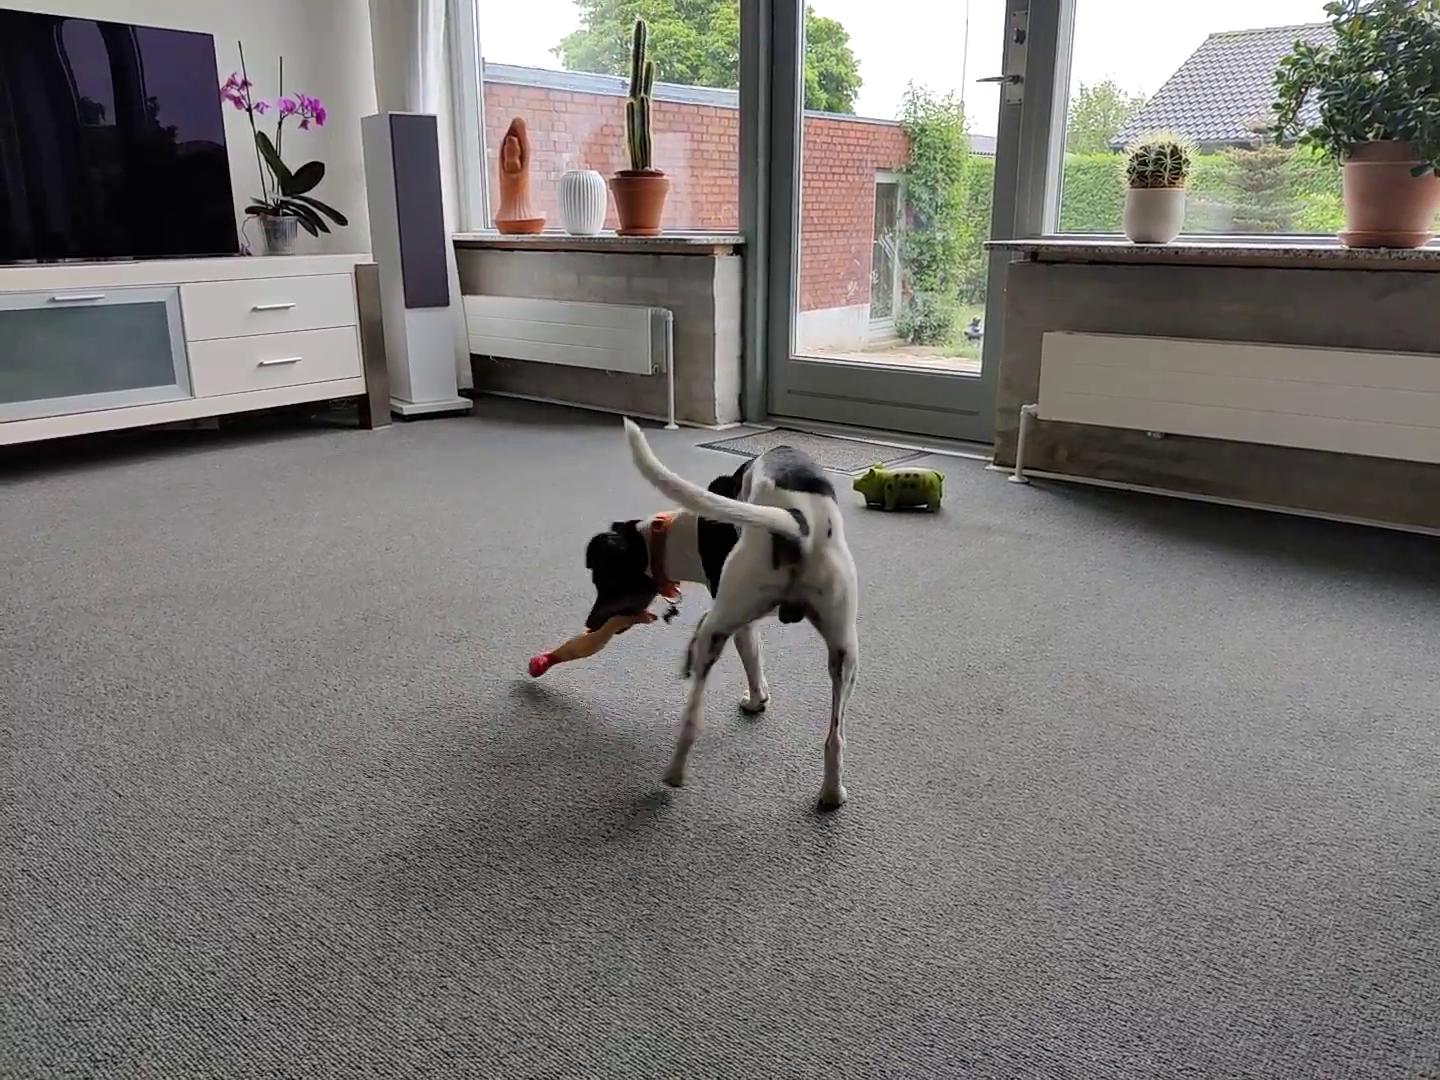Dog: (574, 413, 869, 820)
